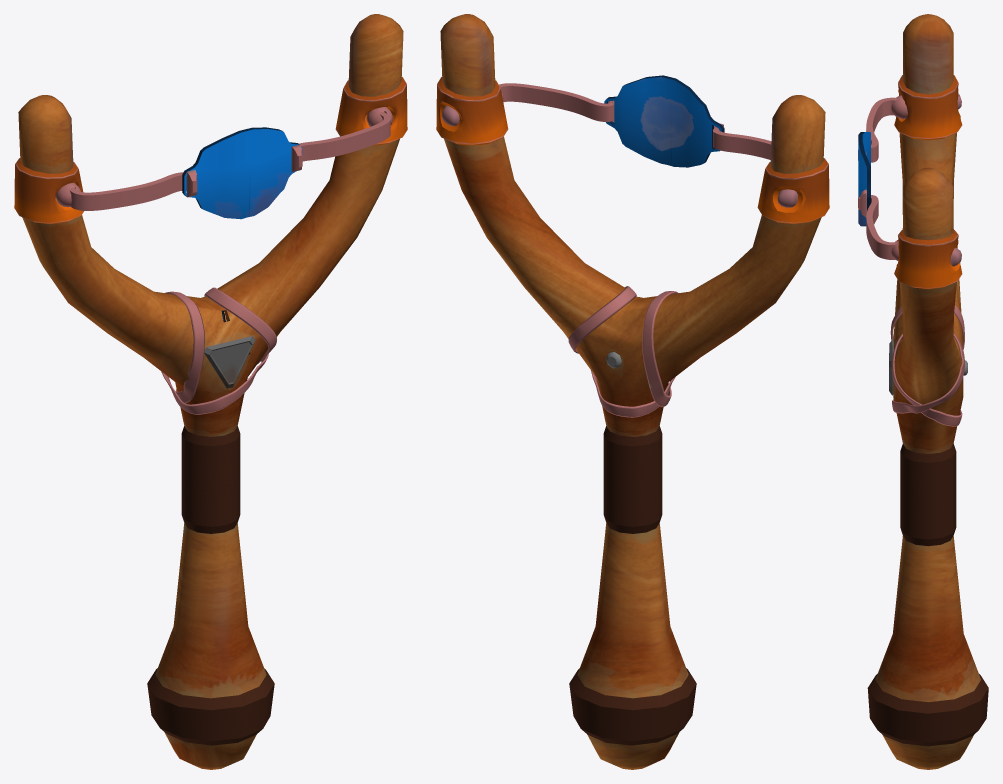
File: slingshot.fbx
3 views of the same model, side by side, from view 1: azimuth 30°, elevation 25°; view 2: azimuth 150°, elevation 25°; view 3: azimuth 270°, elevation 25° (orthographic). The views are drawn at different scales.
Parts seen in each view (by area): view 1: slingshot; view 2: slingshot; view 3: slingshot.
Boxes of the visible parts, x1=… form: slingshot: x1=14, y1=14, x2=407, y2=769; slingshot: x1=436, y1=14, x2=829, y2=769; slingshot: x1=858, y1=14, x2=988, y2=769.
Bounding box in the file's own units: 166 × 291 × 51.44.
1 material, 1 textured.
